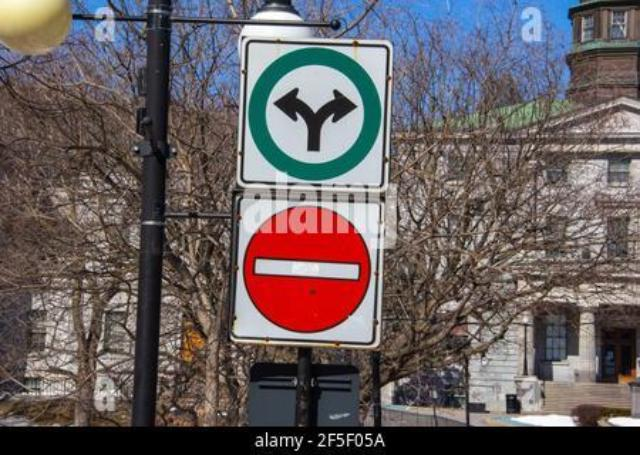B2: (244, 205, 372, 333)
